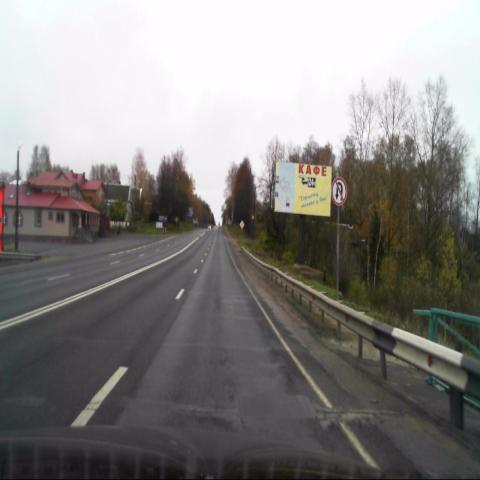3_19: (331, 177, 347, 206)
